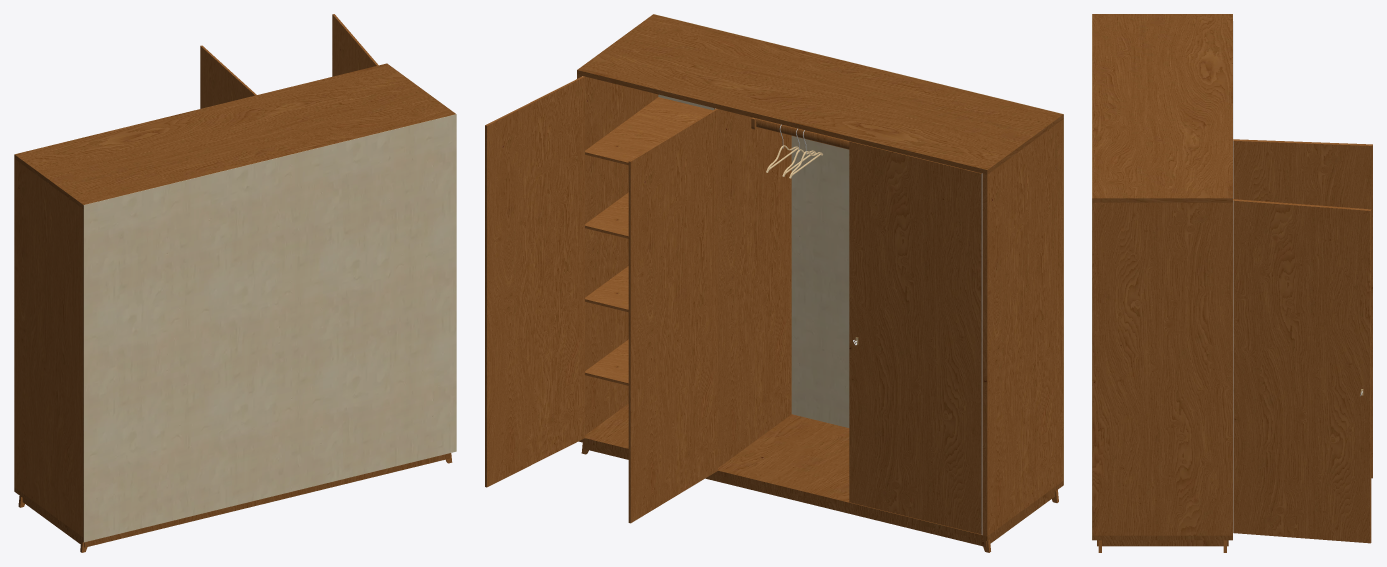
Rendered from a_soviet_wardrobe..glb.
3 views of the same model, side by side, from view 1: azimuth 30°, elevation 25°; view 2: azimuth 150°, elevation 25°; view 3: azimuth 270°, elevation 25° (orthographic). The views are drawn at different scales.
Visible parts, largest first — view 1: Object001_back_0, Object003_top_0, Object002_right wall_0, Box001_bottom_0, Object008_middle door_0, Object007_left door_0; view 2: Object006_right door_0, Object007_left door_0, Object003_top_0, Object008_middle door_0, Object002_right wall_0, Object004_vertical inside walls_0, Object001_back_0, Box001_bottom_0, Object005_left wall_0, Box004_polka_0, Box003_horizontal_0, Cylinder005_sharnir_0; view 3: Object005_left wall_0, Object007_left door_0, Object003_top_0, Object008_middle door_0, Box001_bottom_0, Object001_back_0, Cylinder005_sharnir_0.
Part boxes in pixels (bbox=[...]): Object001_back_0: bbox=[83, 114, 456, 542]; Object003_top_0: bbox=[14, 63, 455, 208]; Object002_right wall_0: bbox=[14, 159, 83, 537]; Box001_bottom_0: bbox=[14, 453, 450, 547]; Object008_middle door_0: bbox=[200, 45, 256, 108]; Object007_left door_0: bbox=[332, 14, 378, 76]; Object006_right door_0: bbox=[849, 141, 981, 534]; Object007_left door_0: bbox=[485, 76, 584, 487]; Object003_top_0: bbox=[577, 14, 1063, 174]; Object008_middle door_0: bbox=[628, 108, 717, 523]; Object002_right wall_0: bbox=[982, 119, 1063, 536]; Object004_vertical inside walls_0: bbox=[714, 108, 791, 467]; Object001_back_0: bbox=[653, 14, 1063, 484]; Box001_bottom_0: bbox=[578, 404, 1063, 546]; Object005_left wall_0: bbox=[577, 74, 658, 434]; Box004_polka_0: bbox=[585, 97, 712, 385]; Box003_horizontal_0: bbox=[756, 118, 849, 149]; Cylinder005_sharnir_0: bbox=[582, 76, 982, 534]; Object005_left wall_0: bbox=[1092, 202, 1232, 535]; Object007_left door_0: bbox=[1233, 199, 1371, 543]; Object003_top_0: bbox=[1092, 14, 1232, 202]; Object008_middle door_0: bbox=[1233, 139, 1372, 478]; Box001_bottom_0: bbox=[1092, 535, 1232, 546]; Object001_back_0: bbox=[1092, 14, 1092, 539]; Cylinder005_sharnir_0: bbox=[1233, 21, 1233, 532].
Bounding box in the file's own units: 2.43 × 2.07 × 1.49.
18 materials, 14 textured.
